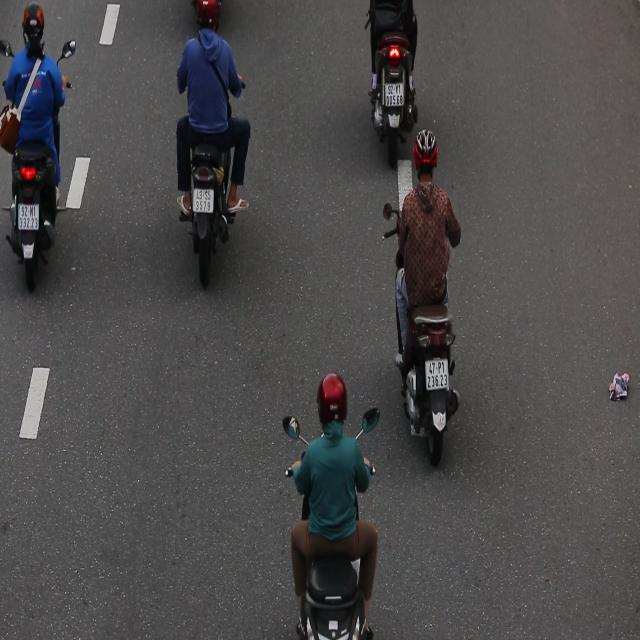motorbike: (384, 130, 484, 470), (0, 6, 88, 291)
